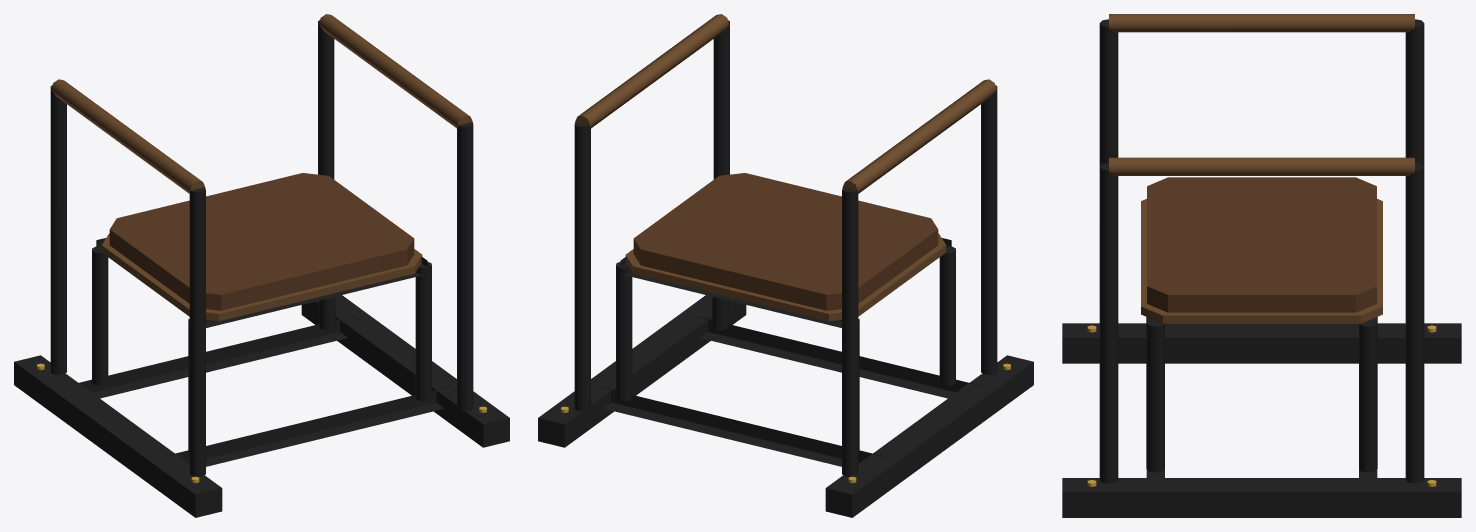
The picture shows the model from 3 angles, left to right: view 1: azimuth 30°, elevation 25°; view 2: azimuth 150°, elevation 25°; view 3: azimuth 270°, elevation 25°; orthographic projection. The views are drawn at different scales.
Visible parts, largest first — view 1: parametric-variant-machine-1st-pub-5f638203d18d02809d31; view 2: parametric-variant-machine-1st-pub-5f638203d18d02809d31; view 3: parametric-variant-machine-1st-pub-5f638203d18d02809d31.
Boxes of the visible parts, <box> form: parametric-variant-machine-1st-pub-5f638203d18d02809d31: <box>14,14,509,517</box>; parametric-variant-machine-1st-pub-5f638203d18d02809d31: <box>538,14,1033,517</box>; parametric-variant-machine-1st-pub-5f638203d18d02809d31: <box>1062,14,1461,517</box>.
Bounding box in the file's own units: 0.987 × 0.947 × 0.987.
